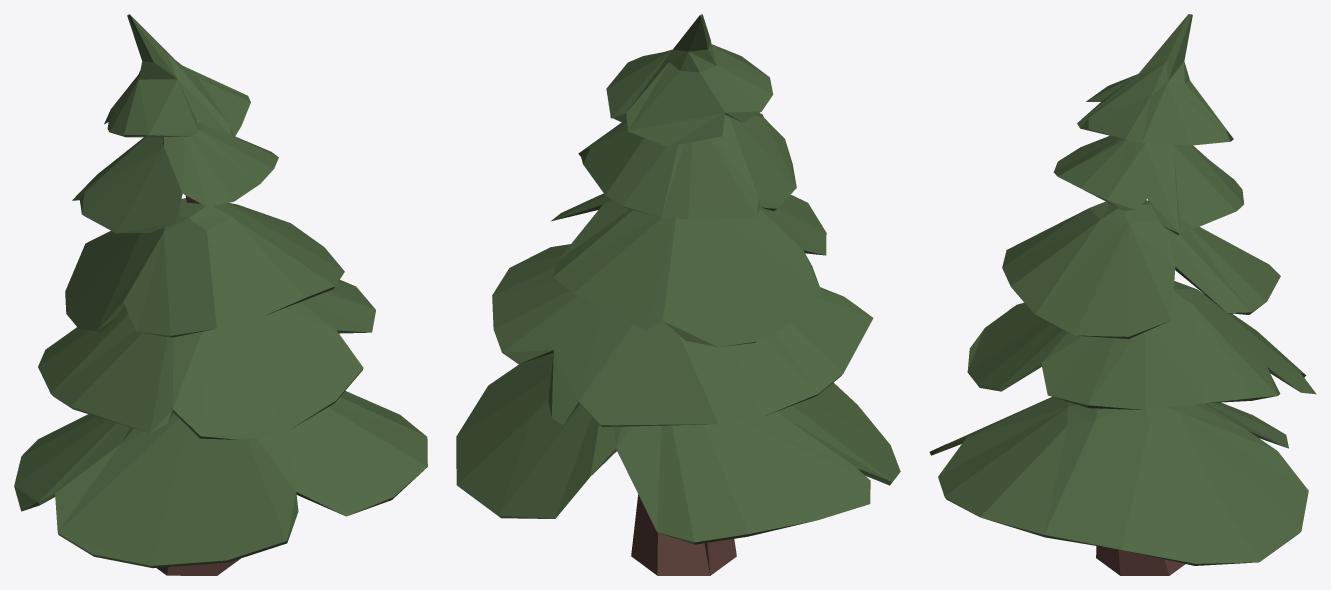
The model's file is q-pine.lod.glb.
3 views of the same model, side by side, from view 1: azimuth 30°, elevation 25°; view 2: azimuth 150°, elevation 25°; view 3: azimuth 270°, elevation 25° (orthographic). The views are drawn at different scales.
Bounding box in the file's own units: 1.95 × 2.7 × 1.8.
